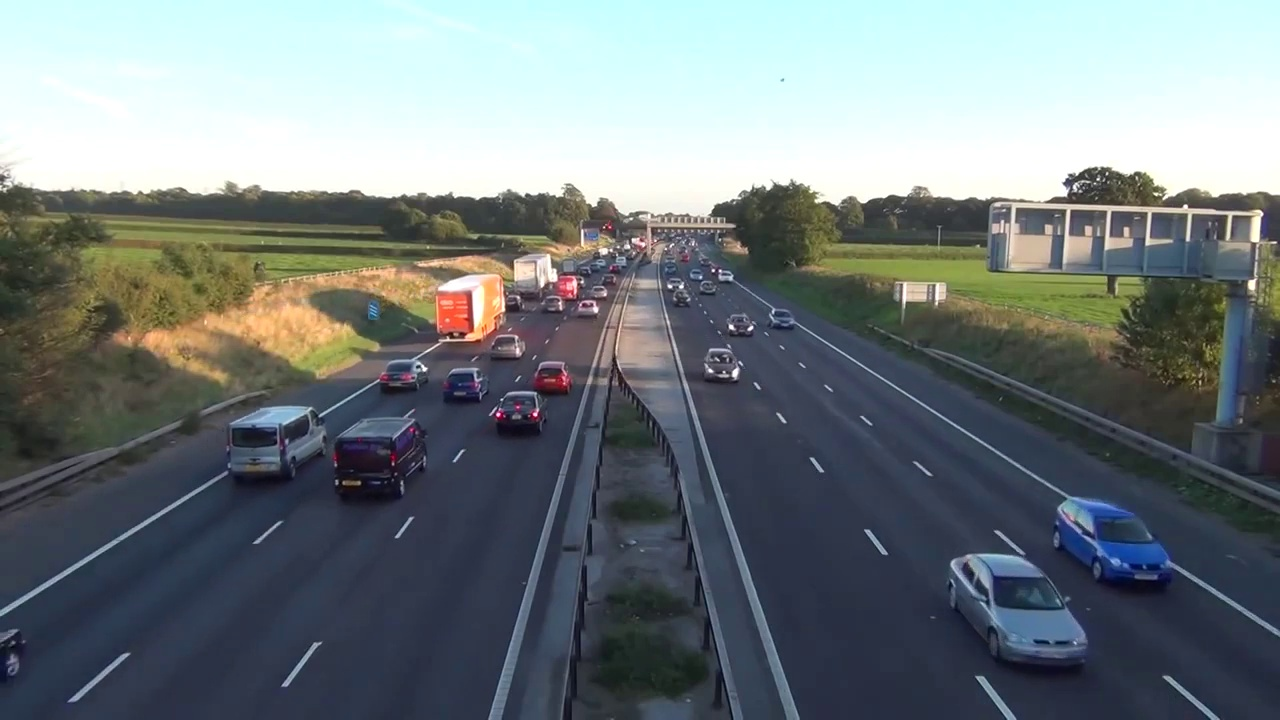bus: (944, 550, 1089, 677), (1049, 494, 1175, 594), (495, 390, 550, 436), (378, 357, 431, 392), (441, 368, 490, 404), (703, 345, 742, 385), (533, 360, 575, 396), (2, 626, 25, 683), (489, 334, 527, 362), (725, 314, 754, 338), (767, 308, 797, 331), (575, 299, 600, 319), (540, 295, 566, 313), (504, 294, 526, 313), (665, 276, 686, 293), (673, 289, 691, 308), (699, 280, 717, 298), (590, 285, 609, 300), (718, 270, 735, 285), (689, 268, 704, 281), (600, 274, 616, 285), (578, 266, 592, 277), (550, 267, 558, 285), (711, 264, 723, 276), (574, 275, 584, 288), (664, 263, 676, 273), (589, 262, 601, 271), (609, 264, 621, 271)
car: (433, 273, 507, 344), (511, 252, 552, 297), (562, 259, 577, 273)
lorry: (228, 400, 329, 485), (334, 416, 430, 501), (557, 275, 580, 299)
